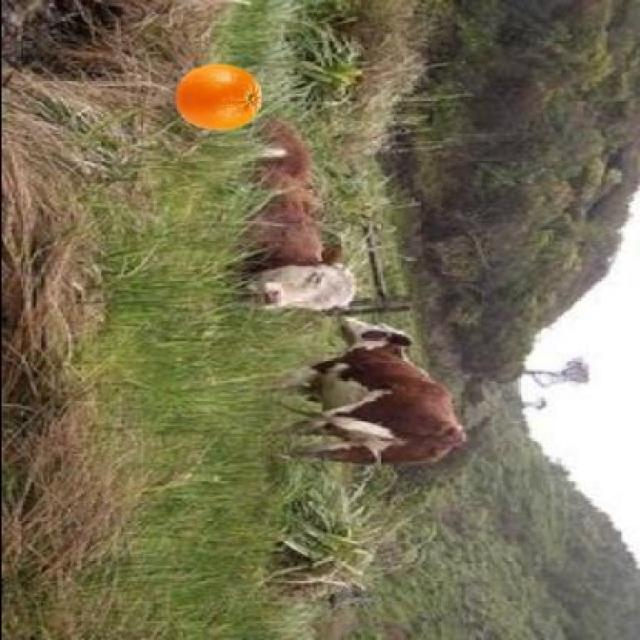Orange: (172, 61, 262, 132)
